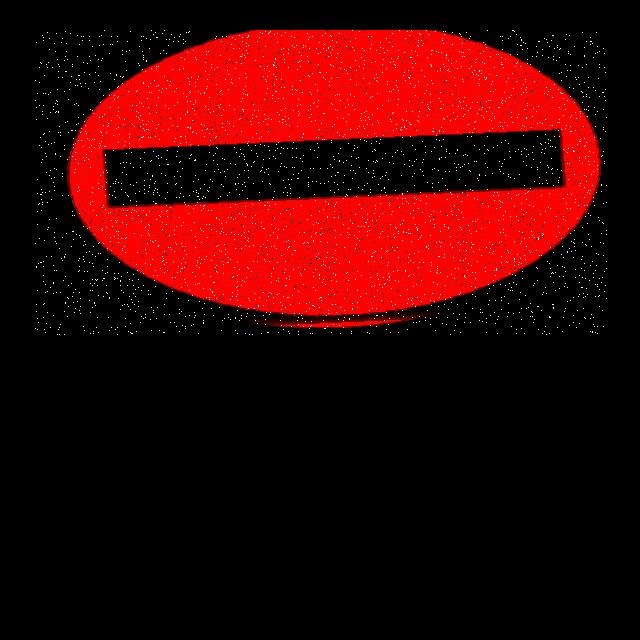no entry: (35, 30, 607, 335)
